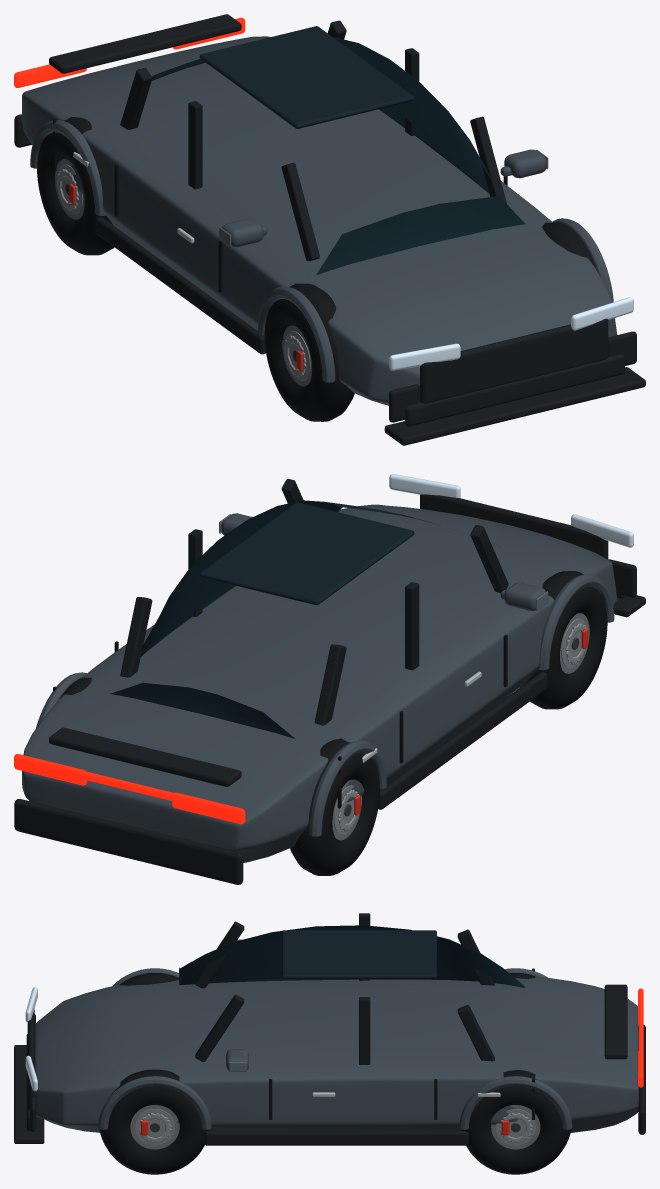
Rendered from traffic_sedan_modern.fbx.
The picture shows the model from 3 angles, top to bottom: view 1: azimuth 30°, elevation 25°; view 2: azimuth 150°, elevation 25°; view 3: azimuth 270°, elevation 25°; orthographic projection. The views are drawn at different scales.
Visible parts, largest first — view 1: Sedan_BodyShell, Sedan_PanoramicRoof, Sedan_Glasshouse, Sedan_FrontGrille, Wheel_FL_Tire, Sedan_FrontSplitter, Wheel_RL_Tire, Sedan_LowerIntake, Sedan_RearDeckLip, Sedan_SideSkirt_-1, Sedan_FenderFront_-1, Sedan_FenderRear_-1 (+13 smaller); view 2: Sedan_BodyShell, Sedan_PanoramicRoof, Sedan_Glasshouse, Sedan_RearDiffuser, Wheel_RL_Tire, Wheel_FL_Tire, Sedan_RearDeckLip, Sedan_SideSkirt_-1, Sedan_FrontGrille, Sedan_FenderRear_-1, Sedan_FenderFront_-1, Sedan_C_Pillar_-1 (+11 smaller); view 3: Sedan_BodyShell, Sedan_PanoramicRoof, Sedan_Glasshouse, Wheel_FR_Tire, Wheel_RR_Tire, Sedan_SideSkirt_+1, Sedan_RearDeckLip, Sedan_FenderFront_+1, Sedan_FrontSplitter, Sedan_FenderRear_+1, Sedan_A_Pillar_+1, Sedan_C_Pillar_+1 (+12 smaller).
Boxes of the visible parts, x1=… form: Sedan_BodyShell: x1=22, y1=36, x2=617, y2=405; Sedan_PanoramicRoof: x1=199, y1=26, x2=414, y2=128; Sedan_Glasshouse: x1=151, y1=37, x2=525, y2=274; Sedan_FrontGrille: x1=420, y1=318, x2=608, y2=403; Wheel_FL_Tire: x1=264, y1=283, x2=354, y2=421; Sedan_FrontSplitter: x1=384, y1=367, x2=645, y2=445; Wheel_RL_Tire: x1=37, y1=117, x2=114, y2=255; Sedan_LowerIntake: x1=404, y1=354, x2=624, y2=426; Sedan_RearDeckLip: x1=49, y1=14, x2=241, y2=73; Sedan_SideSkirt_-1: x1=95, y1=217, x2=265, y2=354; Sedan_FenderFront_-1: x1=257, y1=286, x2=335, y2=382; Sedan_FenderRear_-1: x1=30, y1=120, x2=106, y2=216; Sedan_BodyShell: x1=22, y1=504, x2=617, y2=862; Sedan_PanoramicRoof: x1=199, y1=502, x2=414, y2=605; Sedan_Glasshouse: x1=110, y1=500, x2=522, y2=738; Sedan_RearDiffuser: x1=14, y1=799, x2=243, y2=884; Wheel_RL_Tire: x1=290, y1=738, x2=379, y2=875; Wheel_FL_Tire: x1=520, y1=571, x2=607, y2=709; Sedan_RearDeckLip: x1=49, y1=727, x2=241, y2=786; Sedan_SideSkirt_-1: x1=378, y1=672, x2=547, y2=809; Sedan_FrontGrille: x1=420, y1=494, x2=608, y2=559; Sedan_FenderRear_-1: x1=309, y1=740, x2=386, y2=836; Sedan_FenderFront_-1: x1=538, y1=574, x2=614, y2=670; Sedan_C_Pillar_-1: x1=314, y1=644, x2=346, y2=725; Sedan_BodyShell: x1=34, y1=976, x2=638, y2=1132; Sedan_PanoramicRoof: x1=282, y1=930, x2=436, y2=978; Sedan_Glasshouse: x1=179, y1=925, x2=524, y2=987; Wheel_FR_Tire: x1=99, y1=1069, x2=209, y2=1174; Wheel_RR_Tire: x1=461, y1=1070, x2=571, y2=1174; Sedan_SideSkirt_+1: x1=204, y1=1131, x2=468, y2=1145; Sedan_RearDeckLip: x1=604, y1=984, x2=627, y2=1059; Sedan_FenderFront_+1: x1=98, y1=1076, x2=211, y2=1129; Sedan_FrontSplitter: x1=14, y1=1045, x2=44, y2=1143; Sedan_FenderRear_+1: x1=459, y1=1076, x2=572, y2=1129; Sedan_A_Pillar_+1: x1=195, y1=994, x2=244, y2=1061; Sedan_C_Pillar_+1: x1=457, y1=1005, x2=494, y2=1061.
Size of the model in its own units: 2.3 by 1.49 by 4.98.
